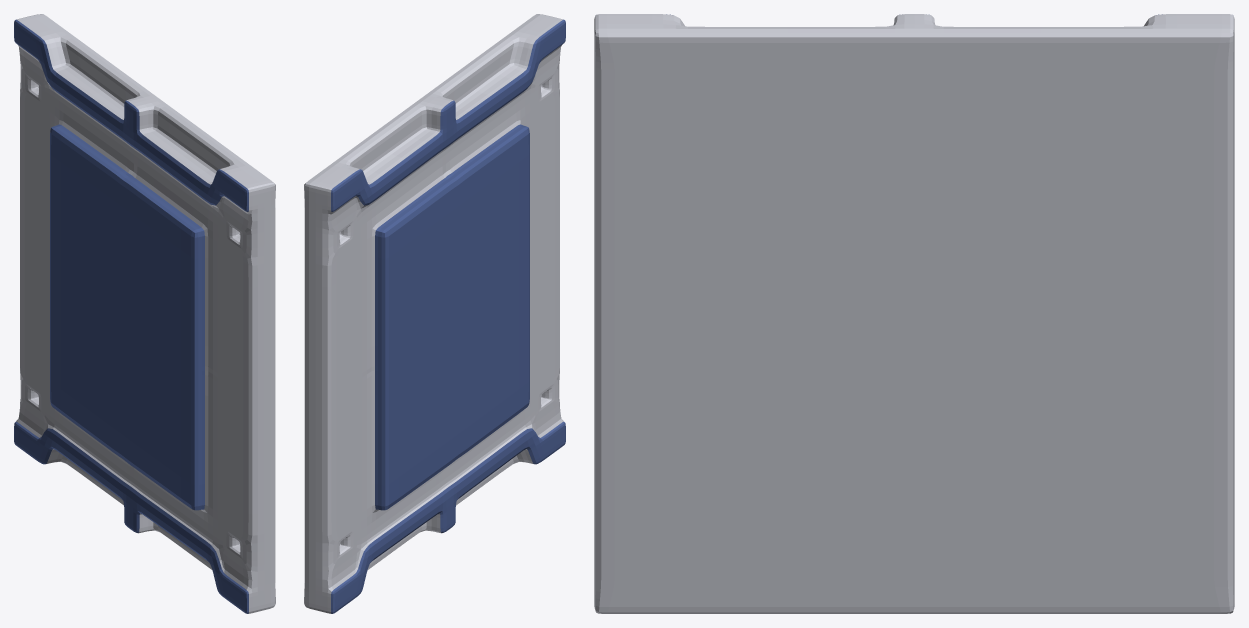
Rendered from Tile1.fbx.
The picture shows the model from 3 angles, left to right: view 1: azimuth 30°, elevation 25°; view 2: azimuth 150°, elevation 25°; view 3: azimuth 270°, elevation 25°; orthographic projection. The views are drawn at different scales.
Parts seen in each view (by area): view 1: Tile2; view 2: Tile2; view 3: Tile2.
Part boxes in pixels (box(x1,y1,x2,y2)): Tile2: box(14, 14, 275, 613); Tile2: box(304, 14, 565, 613); Tile2: box(594, 14, 1234, 613).
Size of the model in its own units: 1118 by 11262 by 11203.
